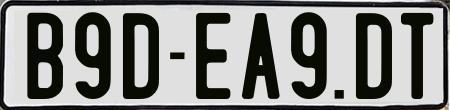9: (290, 11, 331, 100), (72, 12, 111, 103)
A: (239, 13, 282, 105)
B: (25, 12, 64, 98)
D: (353, 10, 392, 101), (122, 12, 158, 102)
E: (193, 11, 231, 101)
T: (399, 10, 430, 99)
